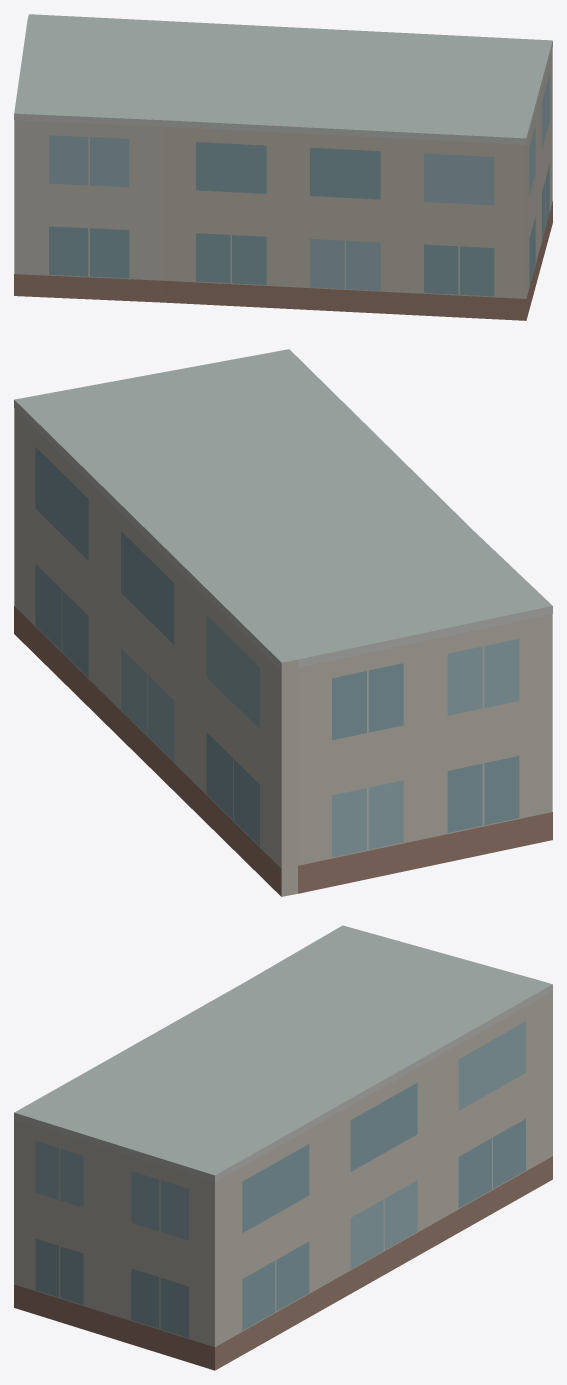
Rendered from survey-upis-32633436.glb.
3 renders of one model, top to bottom at view 1: azimuth 30°, elevation 25°; view 2: azimuth 150°, elevation 25°; view 3: azimuth 270°, elevation 25°, orthographic. The views are drawn at different scales.
Visible parts, largest first — view 1: survey-upis-32633436.tmp; view 2: survey-upis-32633436.tmp; view 3: survey-upis-32633436.tmp.
Part boxes in pixels (x1,y1,x2,y2): survey-upis-32633436.tmp: [14, 14, 552, 320]; survey-upis-32633436.tmp: [14, 349, 552, 896]; survey-upis-32633436.tmp: [14, 925, 552, 1370].
Size of the model in its own units: 18.98 by 6.9 by 17.27.
